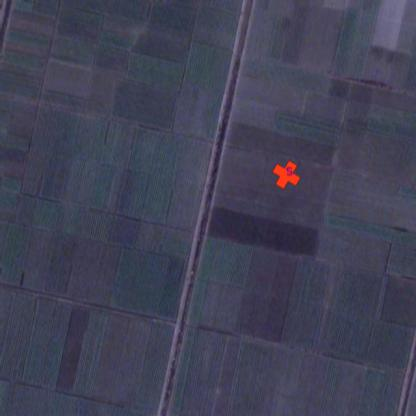S: (285, 166, 293, 178)
plus: (273, 161, 301, 189)
